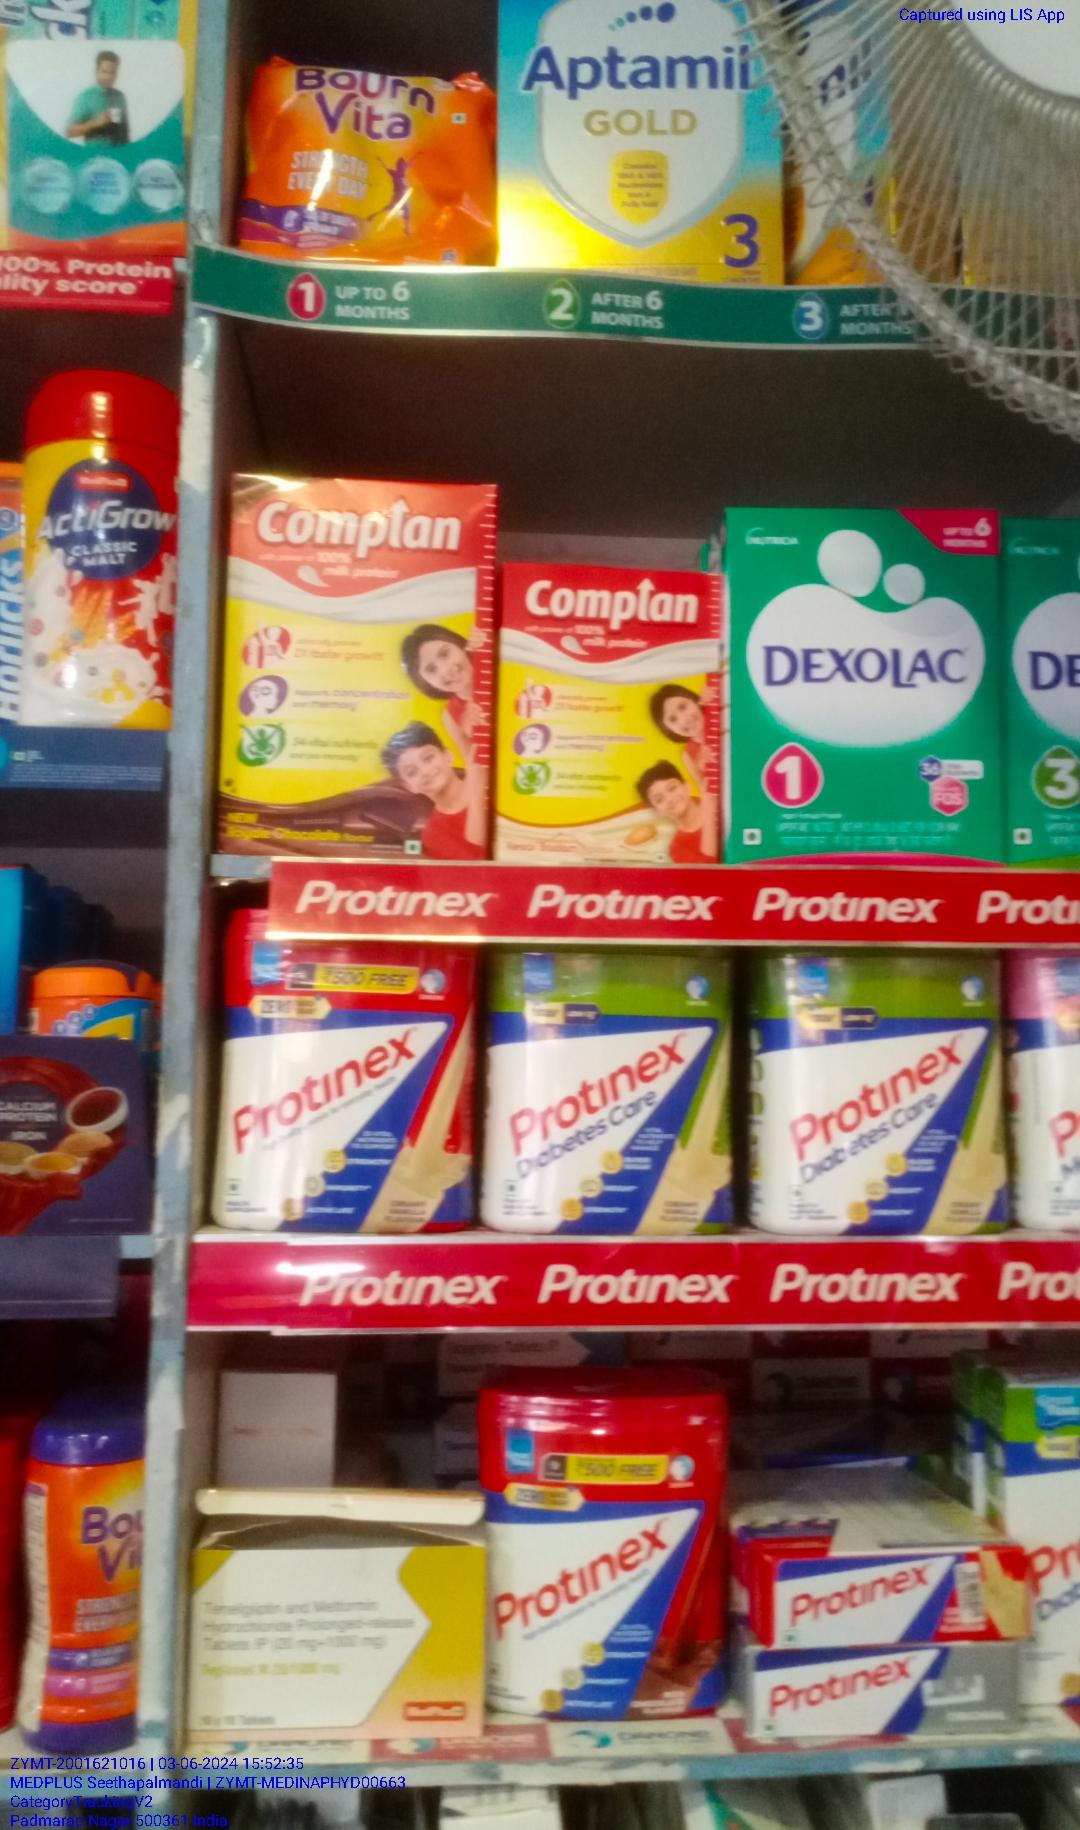BOURN_VITA_500_G_JAR: (26, 1433, 135, 1753)
BOURN_VITA_500_G_POUCH: (240, 44, 491, 263)
COMPLAN_CHOCOLATE_500_GMS_PACK: (222, 484, 499, 857)
COMPLAN_KESAR_BADAM_200_GMS_PACK: (498, 563, 720, 861)
PROTINEX_CHOCOLATE_400_G_JAR: (498, 1412, 739, 1723)
PROTINEX_VANILLA_400_G_JAR: (211, 936, 474, 1235)
